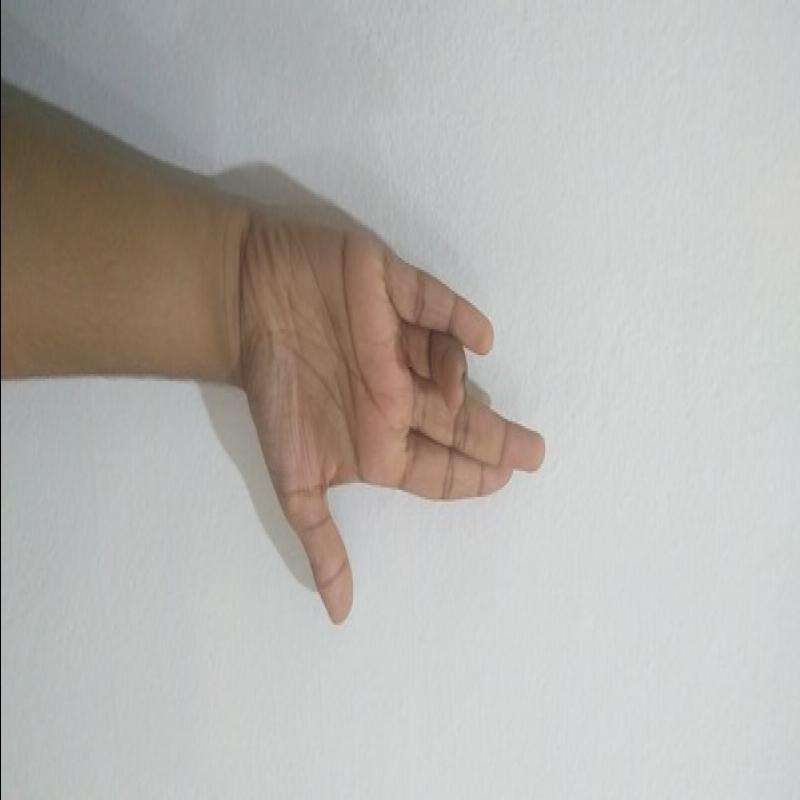Pathaaka: (218, 186, 554, 634)
